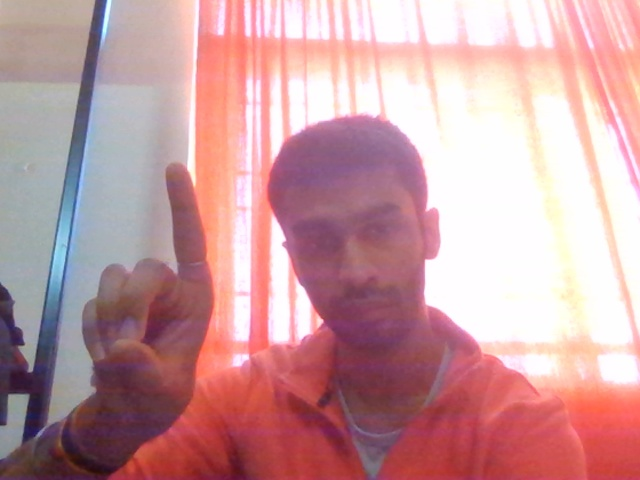D: (58, 139, 243, 440)
